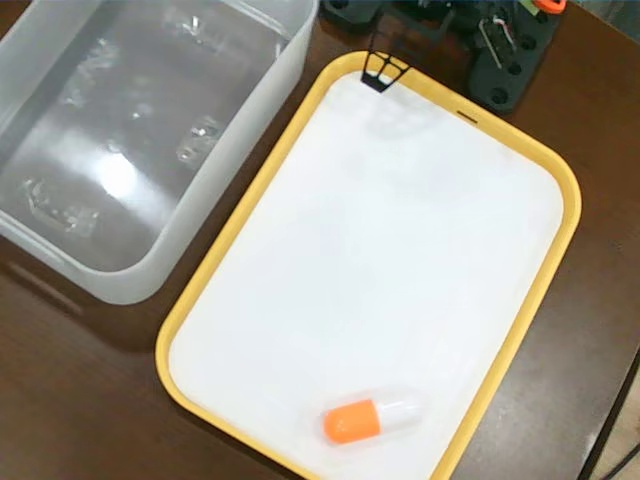pill: (321, 390, 426, 445)
